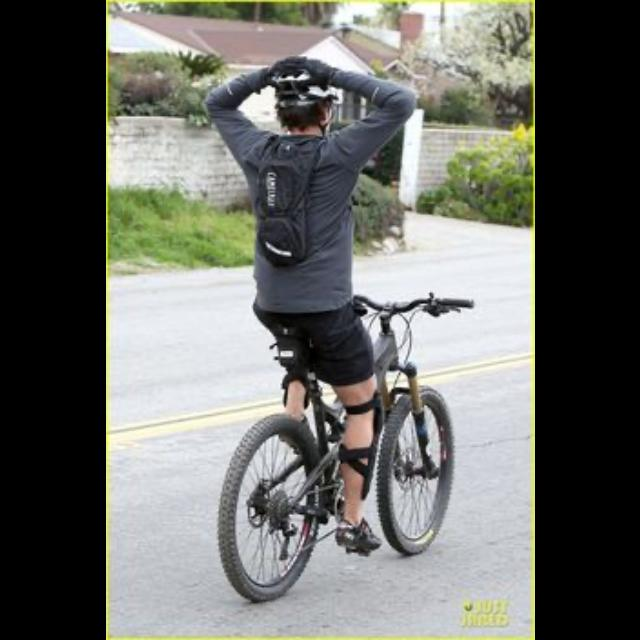With Helmet: (245, 50, 349, 140)
